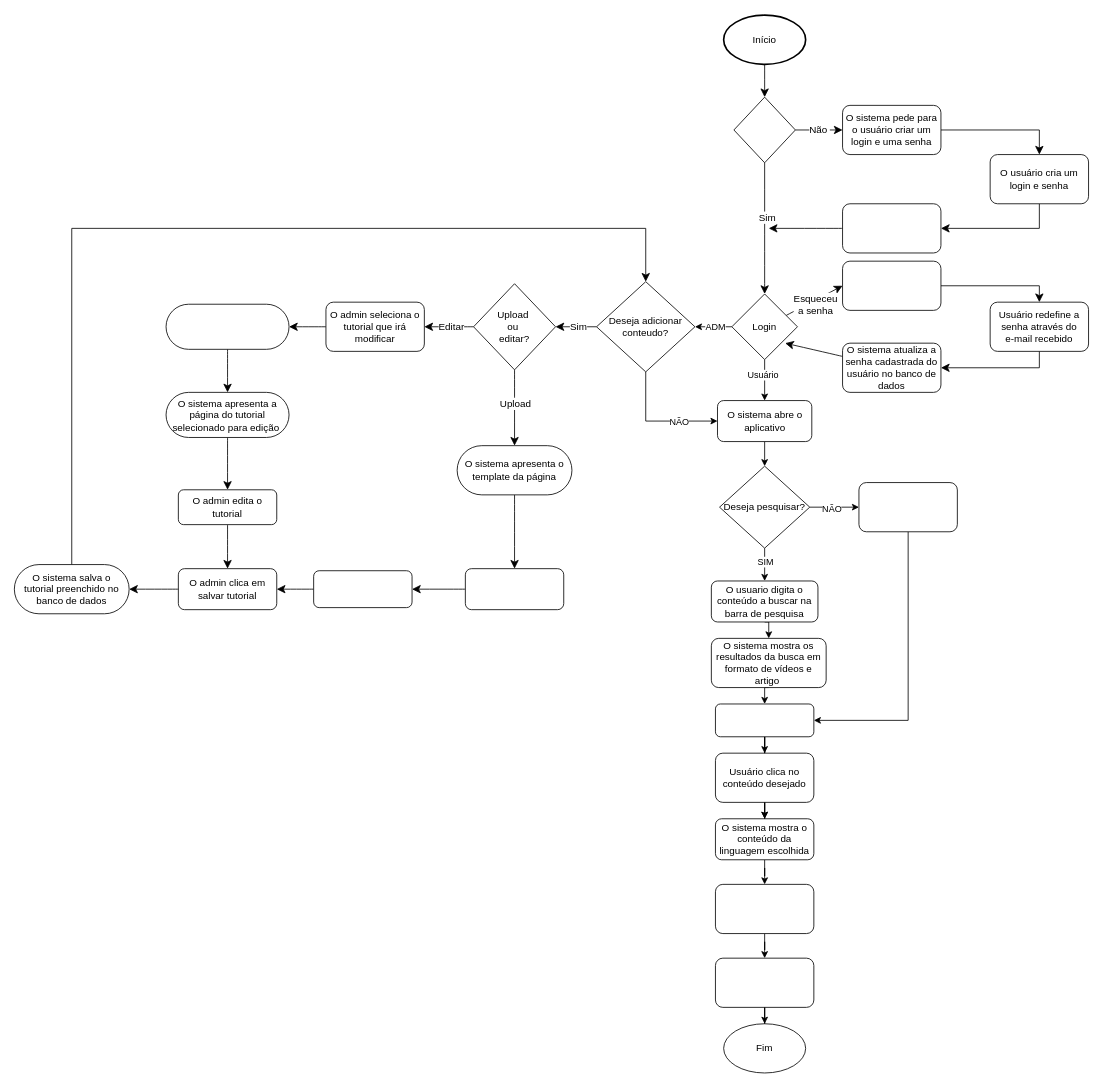
Image size: 1103x1087. Some labels were removed from this diagram. The centre of each missing label's shape, as x and y in pixels:
O admin insere o texto do tutorial: [362,589]
O admin insere o vídeo do tutorial: [514,589]
O sistema aguarda a escolha do usuário: [764,720]
O sistema cria um cadastro para o novo usuário e salva no banco de dados: [891,228]
O sistema faz um sistema de recomendacoes a respeito do usuario: [764,982]
O sistema pede o email para mandar um e-mail de confirmação: [891,285]
O sistema procura o tutorial selecionado no banco de dados: [227,326]
O usuario da uma nota ao sistema baseado em suas preferencias: [764,909]
Tem Cadastro?: [764,129]
Usuario escolhe com base na recomendação: [907,507]
